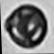correct: (5, 5, 49, 50)
